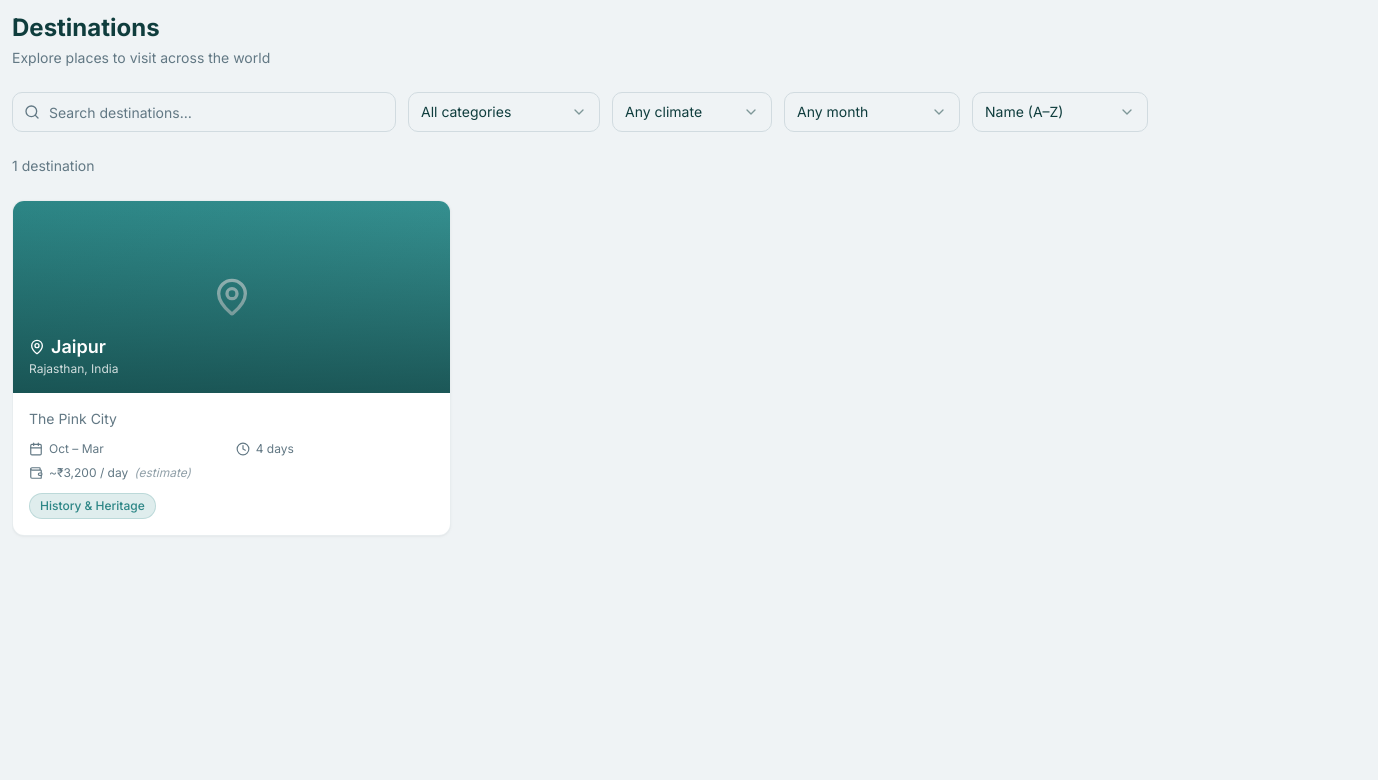
Test: BrowseDestinations › shows an empty state with a filter hint when nothing matches
This screenshot has width=1378, height=780.
Expected: the heading "Jaipur" is shown, 29,336 -> 106,357
Type "zzz" into the field labelled "Search destinations" at point(204, 112), box 12,92 -> 396,132
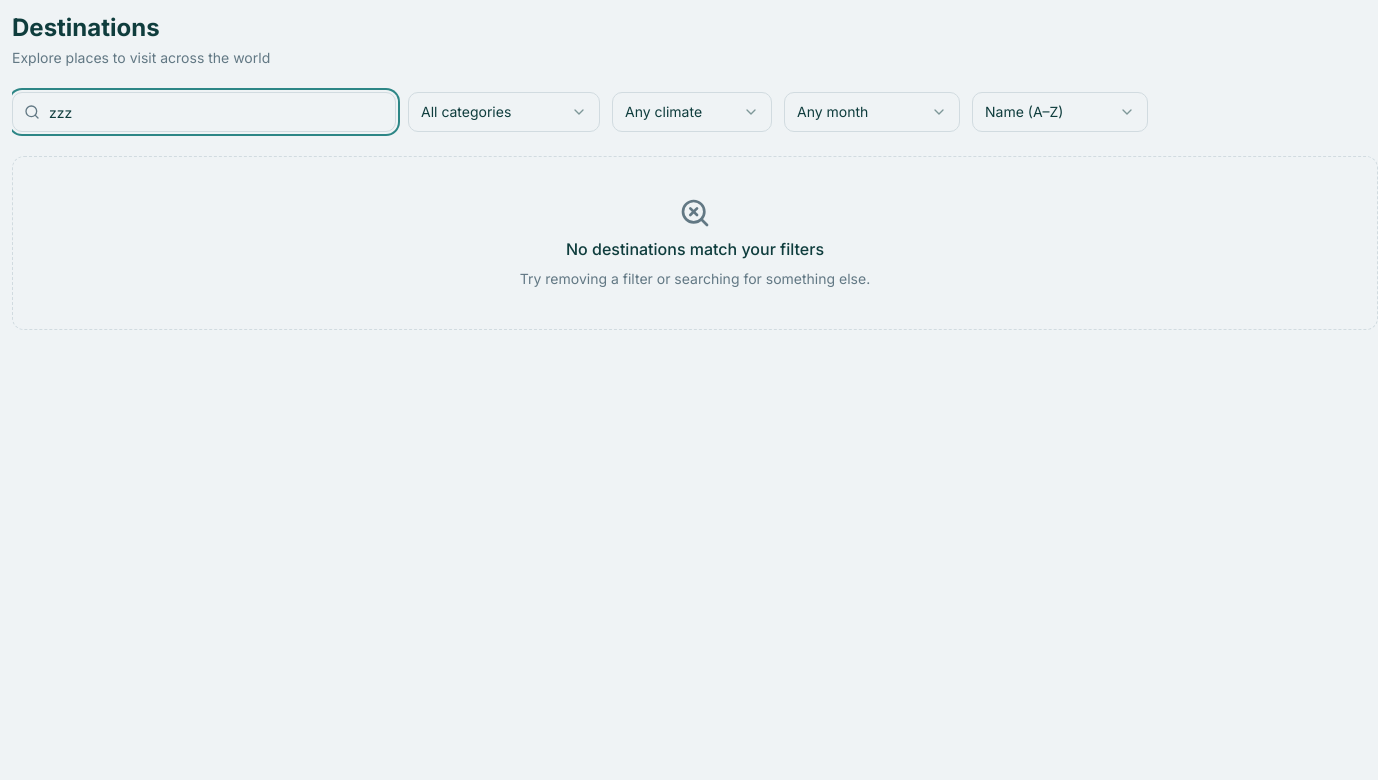
Expected: the text "No destinations match your filters" is shown, 566,239 -> 824,259
